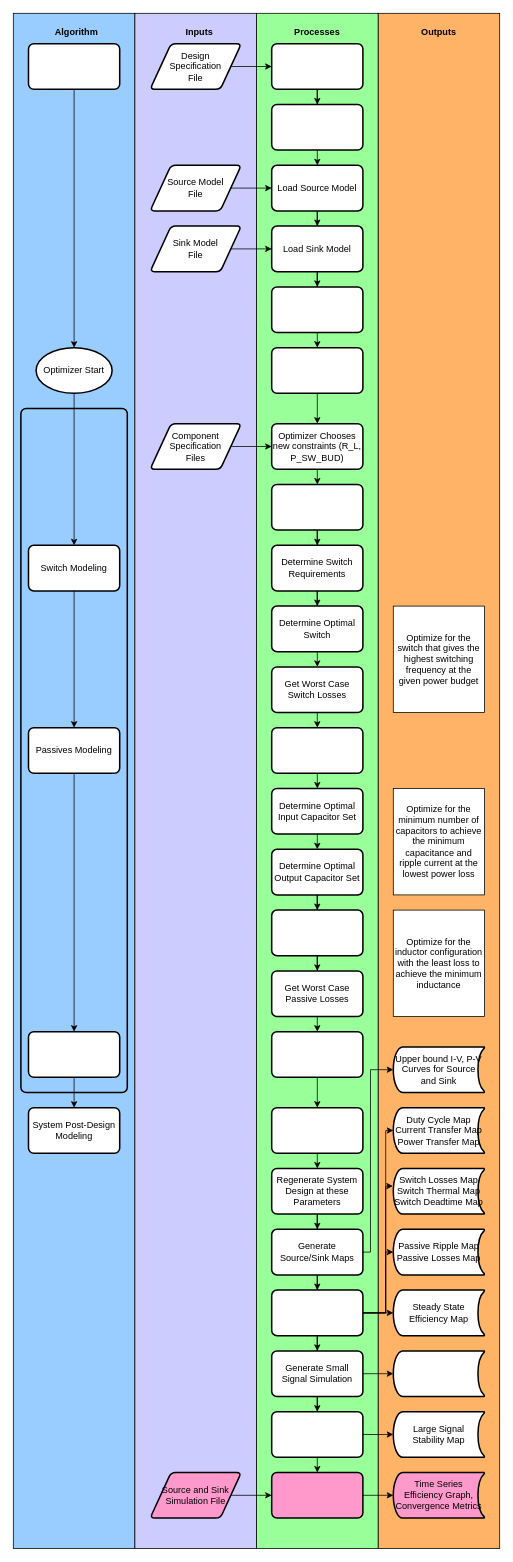
This 513x1562 diagram has some shape labels left out. The centre of each missing label's shape, as x and y in pixels:
Constrain I/O Mapping: the point at 317,506
Determine Optimal Inductor: the point at 317,932
Determine Passive Requirements: the point at 317,750
Generate Large Signal Simulation: the point at 317,1434
Generate Steady State Maps: the point at 317,1312
Get Best Optimizer Parameters: the point at 317,1130
Get Total Design Loss: the point at 317,1054
Initialize I/O Mapping: the point at 317,309
Load Components: the point at 317,66
Load Design Specifications: the point at 317,126
MPPT Simulation: the point at 317,1494
Setup optimizer parameters: the point at 317,370
Small Signal Stability Map: the point at 438,1373
System Evaluation: the point at 73,1054
System Setup: the point at 73,66
